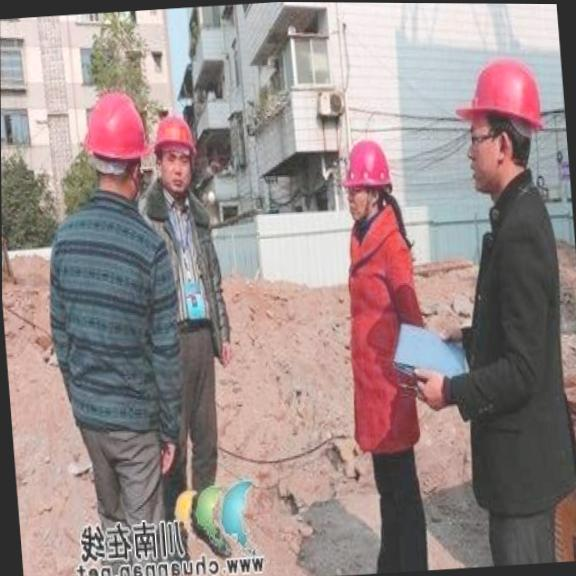no_safety_vest: (441, 197, 576, 523), (48, 215, 164, 437), (337, 234, 430, 456), (156, 198, 217, 325)
